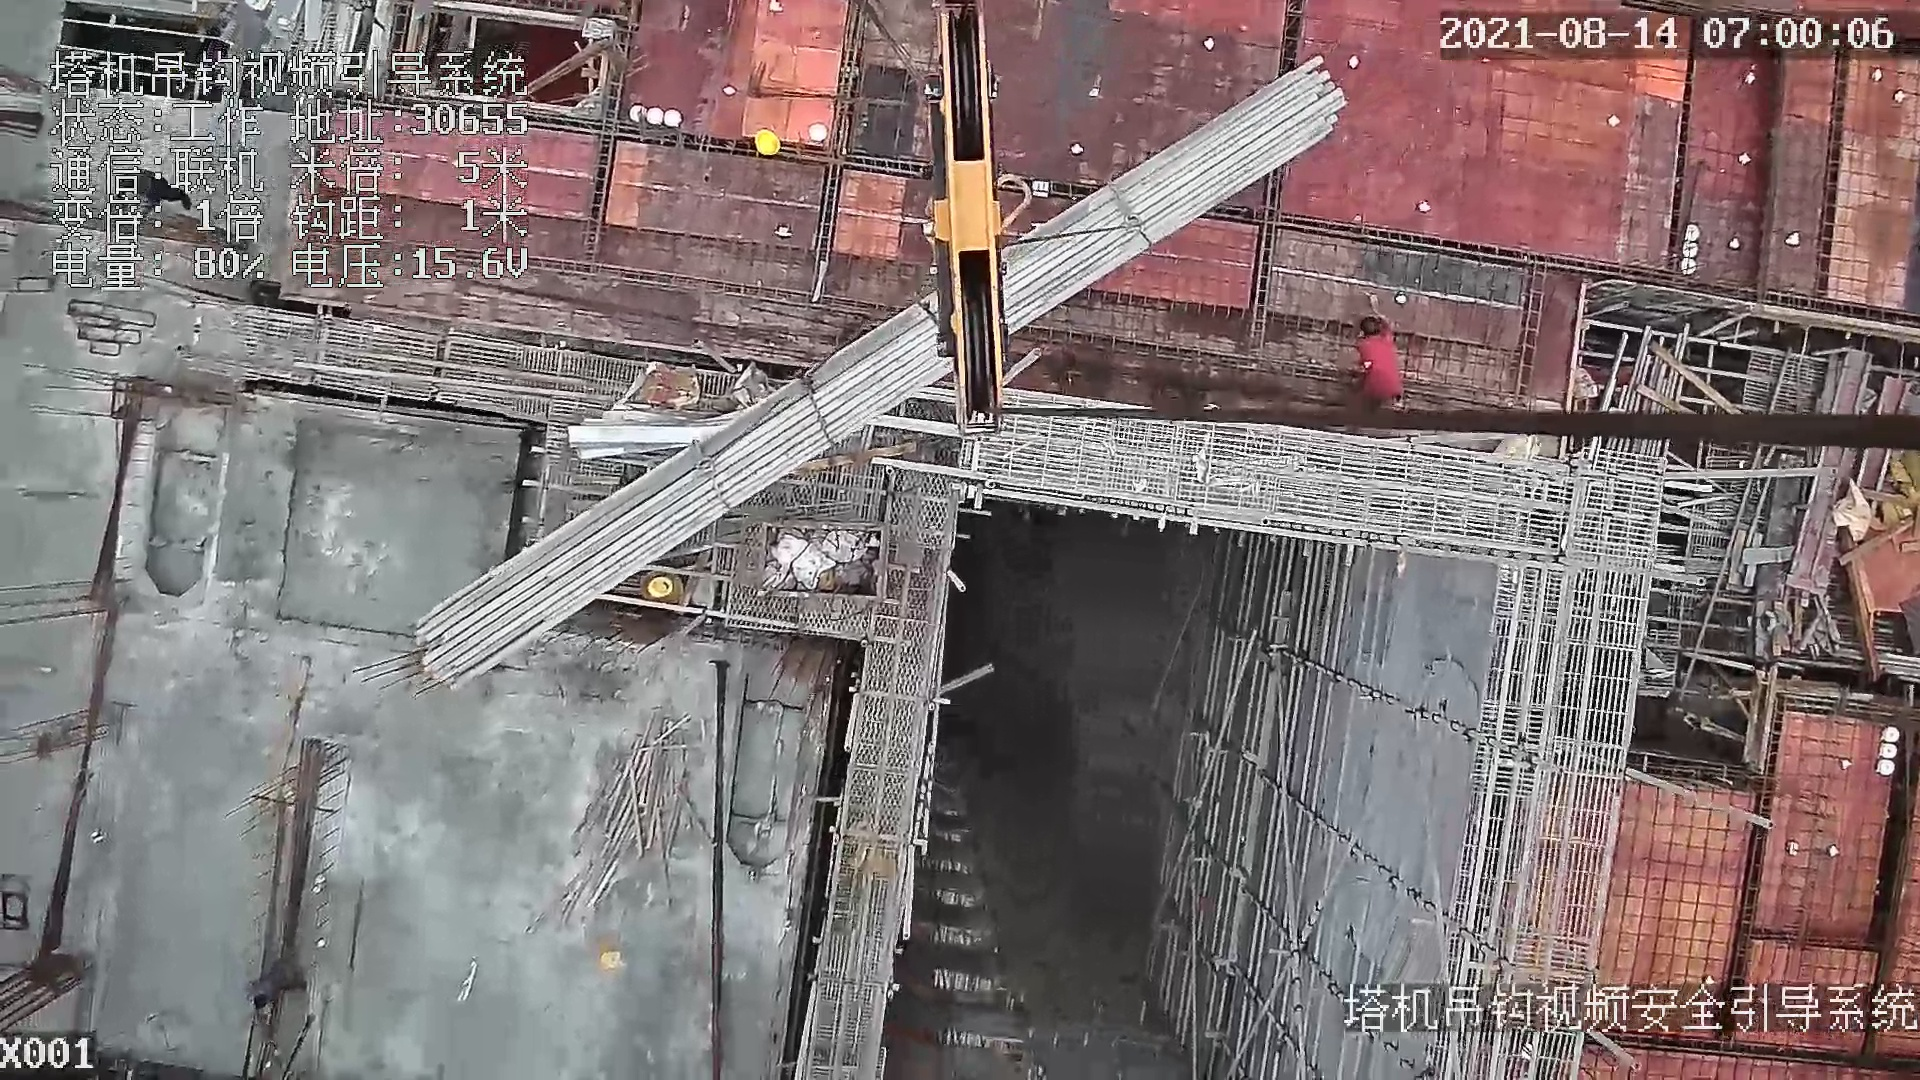helmet: (754, 130, 781, 156), (648, 577, 673, 597)
person: (1354, 296, 1415, 405), (248, 974, 310, 1008)
